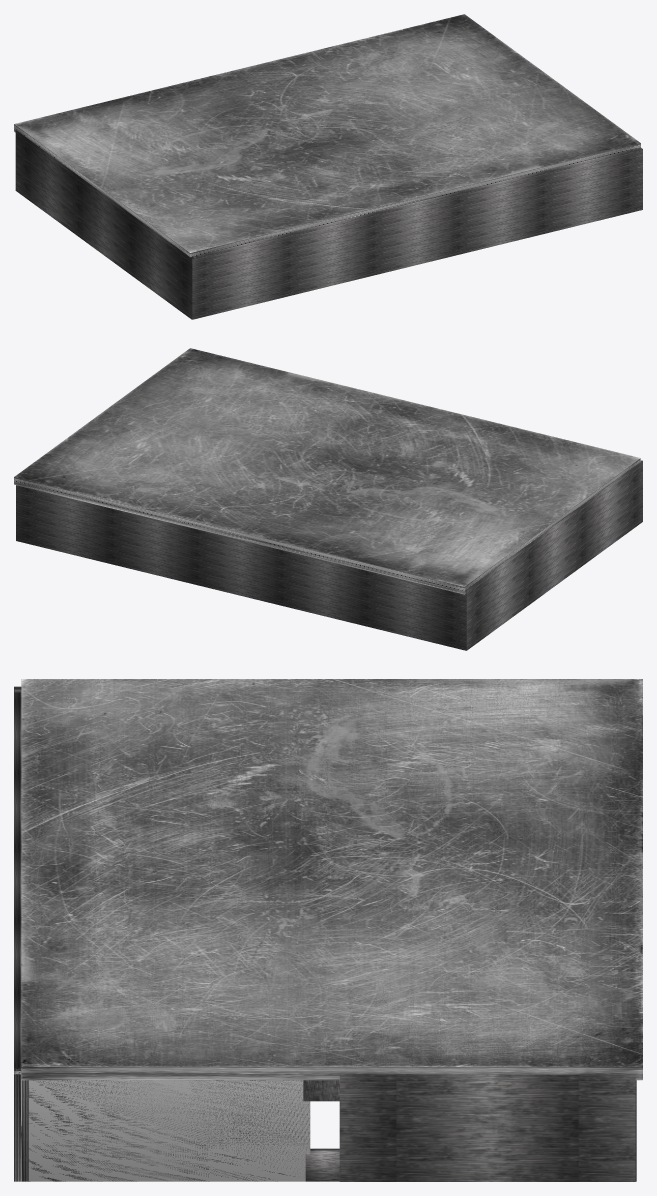
Rendered from paretsHabitacio1.fbx.
The picture shows the model from 3 angles, top to bottom: view 1: azimuth 30°, elevation 25°; view 2: azimuth 150°, elevation 25°; view 3: azimuth 270°, elevation 25°; orthographic projection. The views are drawn at different scales.
Visible parts, largest first — view 1: Cube_009, Cube_002, Cube_005; view 2: Cube_009, Cube_003, Cube_005; view 3: Cube_009, Cube_001, Cube, Cube_002, Cube_008, Cube_006.
Boxes of the visible parts, bbox=[...] form: Cube_009: bbox=[14, 14, 640, 257]; Cube_002: bbox=[192, 147, 642, 319]; Cube_005: bbox=[15, 130, 198, 319]; Cube_009: bbox=[14, 348, 640, 594]; Cube_003: bbox=[16, 485, 466, 650]; Cube_005: bbox=[466, 460, 642, 650]; Cube_009: bbox=[21, 679, 642, 1080]; Cube_001: bbox=[339, 1074, 635, 1181]; Cube: bbox=[14, 1068, 310, 1181]; Cube_002: bbox=[14, 687, 28, 1181]; Cube_008: bbox=[305, 1148, 339, 1181]; Cube_006: bbox=[303, 1080, 339, 1101].
Size of the model in its own units: 31.02 by 4.28 by 21.25.
